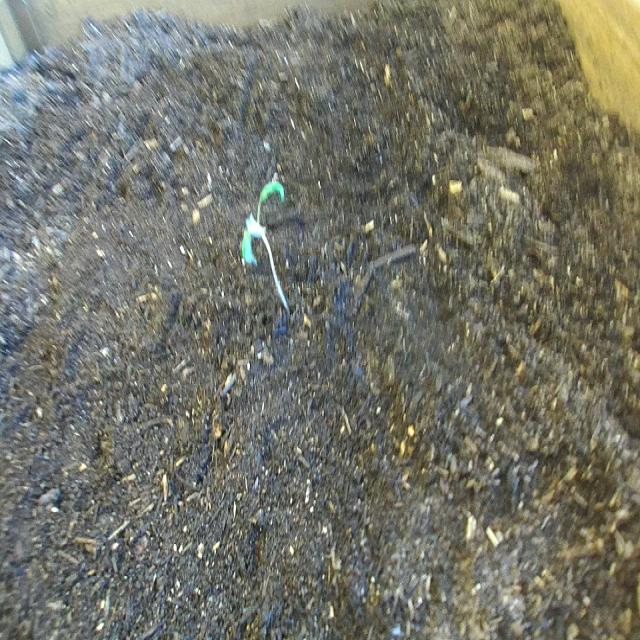Healthy: (229, 160, 307, 336)
